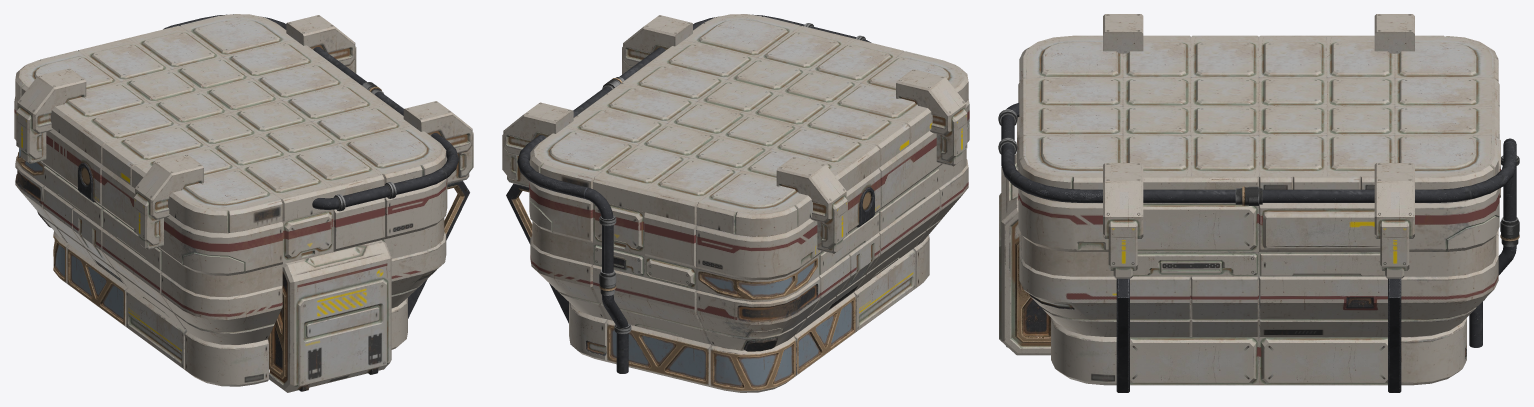
File: sci_fi_building_01.glb
3 renders of one model, left to right at view 1: azimuth 30°, elevation 25°; view 2: azimuth 150°, elevation 25°; view 3: azimuth 270°, elevation 25°, orthographic. The views are drawn at different scales.
Visible parts, largest first — view 1: Object_15; view 2: Object_15; view 3: Object_15.
Part boxes in pixels (x1,y1,x2,y2): Object_15: (14,14,473,392); Object_15: (502,14,969,392); Object_15: (998,14,1519,392).
Size of the model in its own units: 9.85 by 6.02 by 11.71.
Materials: 2 (2 with a texture image).
